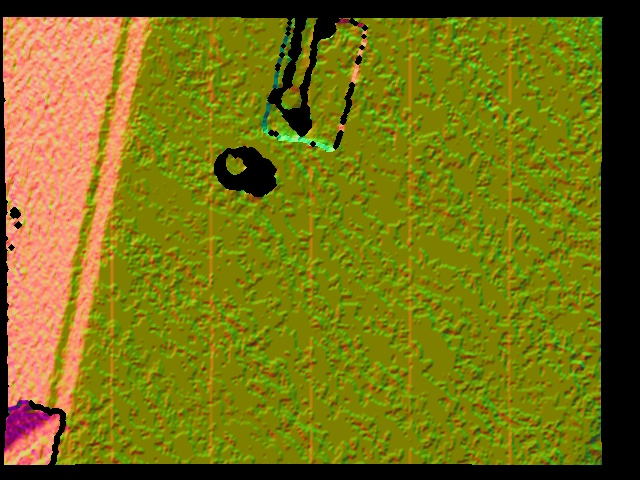station: (263, 14, 368, 151)
